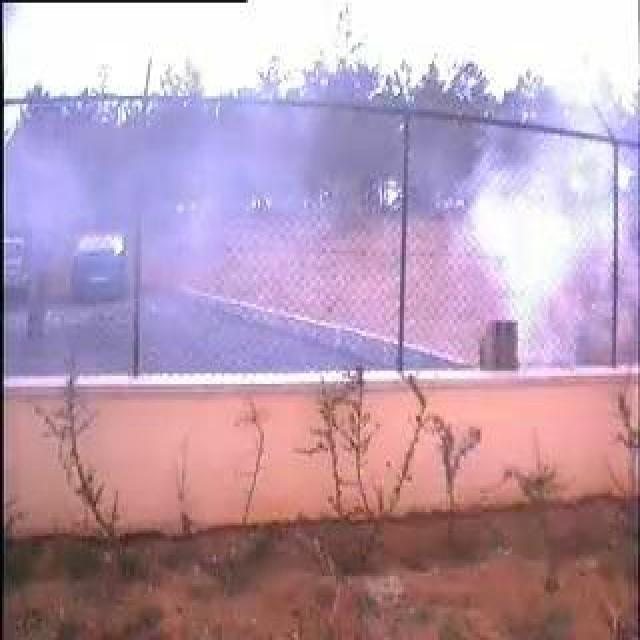Smoke: (467, 133, 613, 360)
